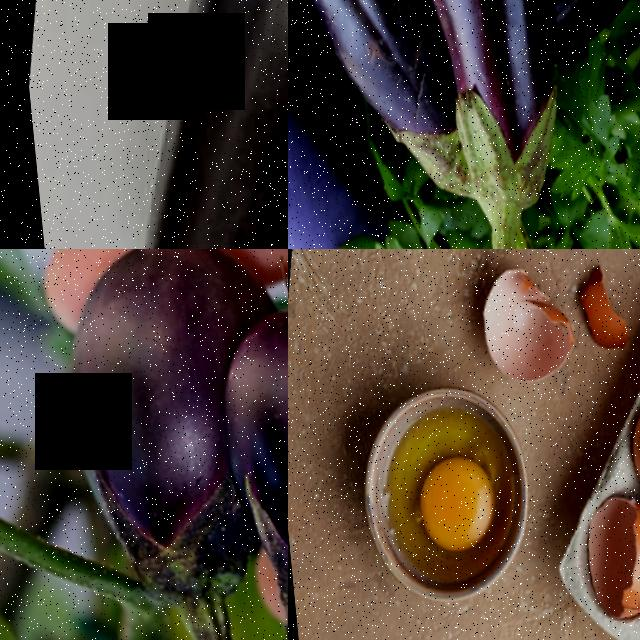egg_: (399, 447, 498, 559), (611, 383, 640, 515)
eggplant: (16, 249, 260, 599), (317, 0, 614, 219), (69, 0, 288, 249), (175, 295, 288, 635), (288, 0, 426, 116), (533, 0, 640, 71)
